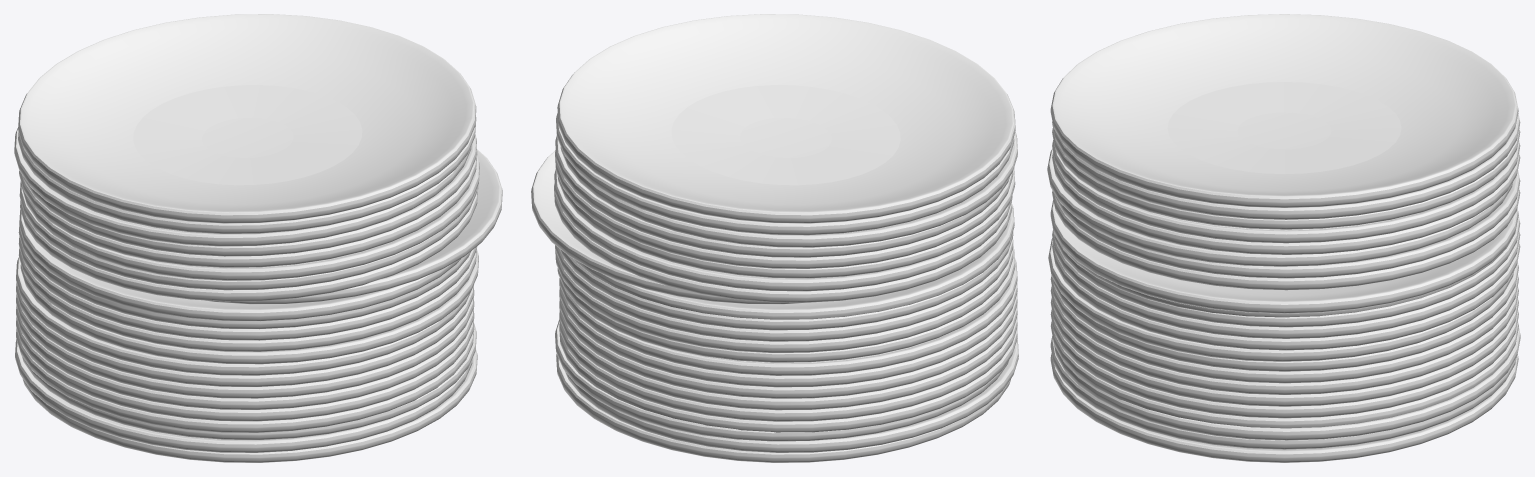
File: geo_plateStack.fbx
The picture shows the model from 3 angles, left to right: view 1: azimuth 30°, elevation 25°; view 2: azimuth 150°, elevation 25°; view 3: azimuth 270°, elevation 25°; orthographic projection.
Parts seen in each view (by area): view 1: geo_plateStack; view 2: geo_plateStack; view 3: geo_plateStack.
Boxes of the visible parts, bbox=[...] form: geo_plateStack: bbox=[14, 14, 502, 462]; geo_plateStack: bbox=[531, 14, 1018, 462]; geo_plateStack: bbox=[1047, 14, 1520, 462].
Bounding box in the file's own units: 0.3617 × 0.2266 × 0.3407.
